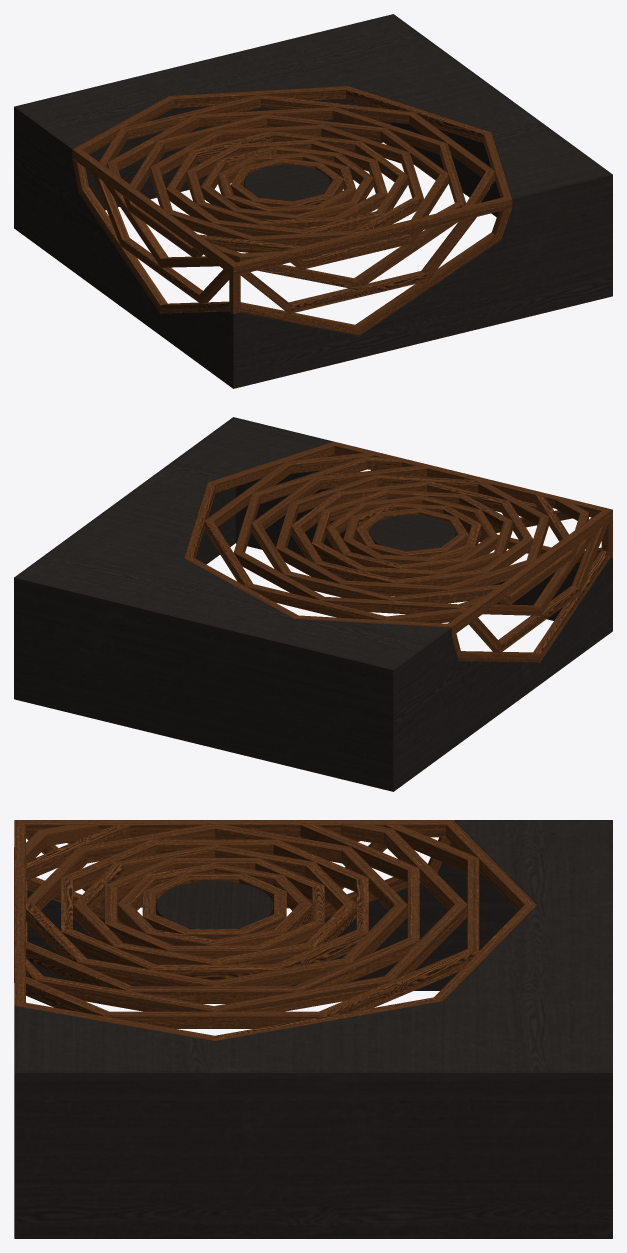
File: modern_coffee_table_02.glb
3 views of the same model, one above another, from view 1: azimuth 30°, elevation 25°; view 2: azimuth 150°, elevation 25°; view 3: azimuth 270°, elevation 25° (orthographic). The views are drawn at different scales.
Visible parts, largest first — view 1: modern_coffee_table_02; view 2: modern_coffee_table_02; view 3: modern_coffee_table_02.
Part boxes in pixels (left/top/right/bottom): modern_coffee_table_02: left=14, top=14, right=612, bottom=388; modern_coffee_table_02: left=14, top=417, right=612, bottom=791; modern_coffee_table_02: left=14, top=820, right=612, bottom=1238.
Size of the model in its own units: 1.2 by 0.3692 by 1.2.
2 materials, 2 textured.
